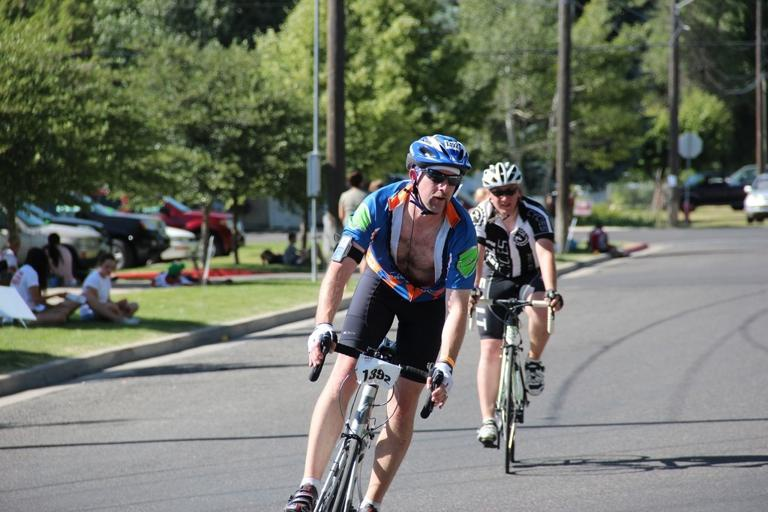non-vehicle: (304, 333, 447, 509), (466, 285, 563, 475)
